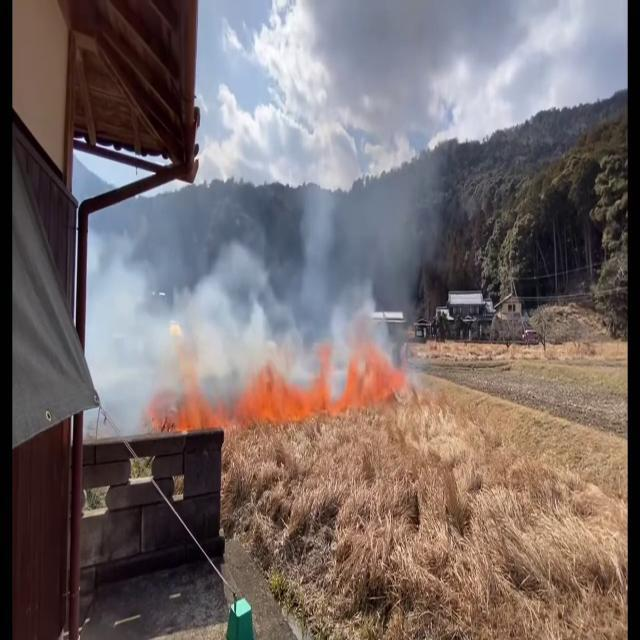Fire: (154, 350, 438, 442)
Smoke: (71, 140, 459, 386)
